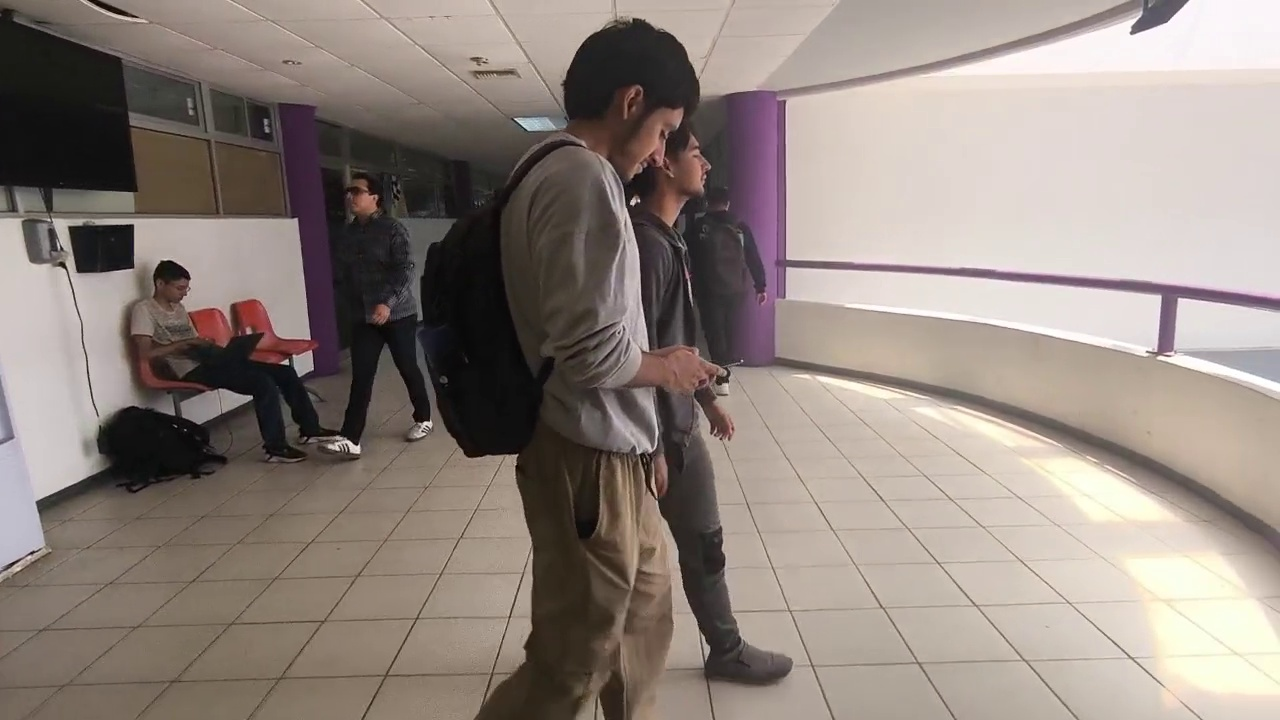mixto2: (700, 347, 749, 372)
